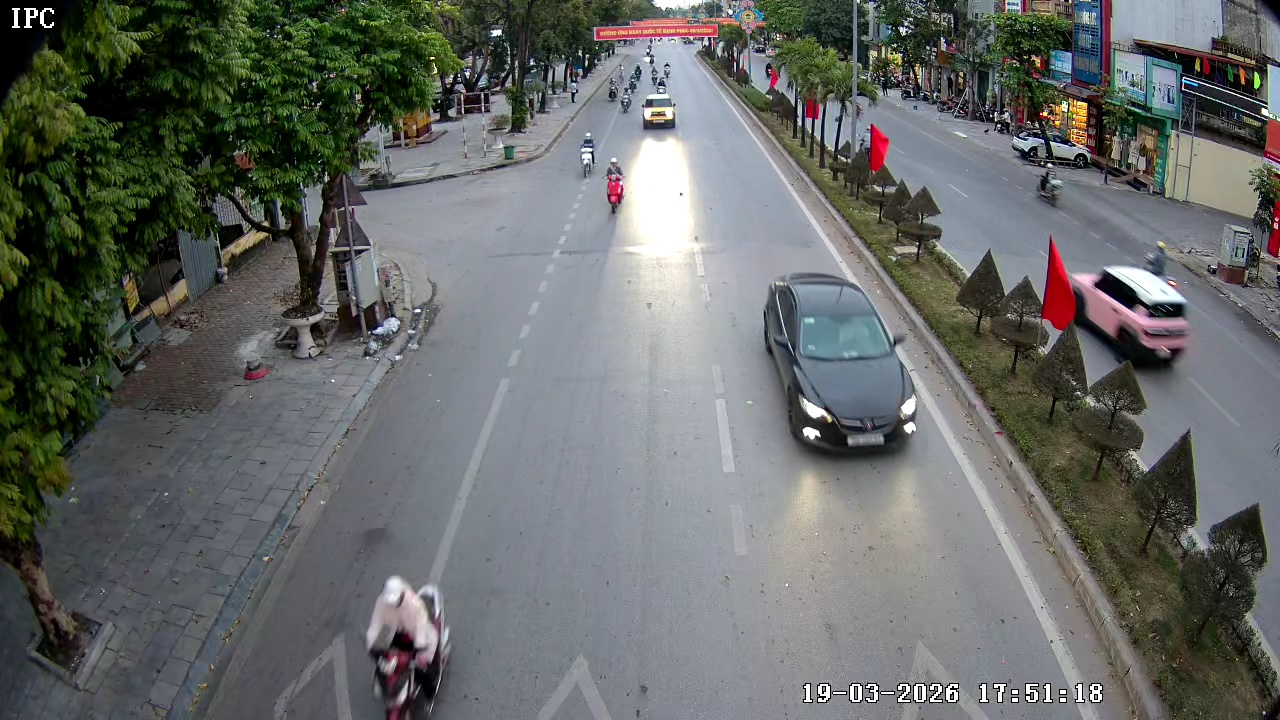car: (761, 275, 916, 451), (1067, 262, 1190, 369), (642, 92, 677, 135)
motorbike: (354, 572, 461, 717), (601, 155, 628, 216), (576, 130, 596, 178), (621, 86, 636, 114)
